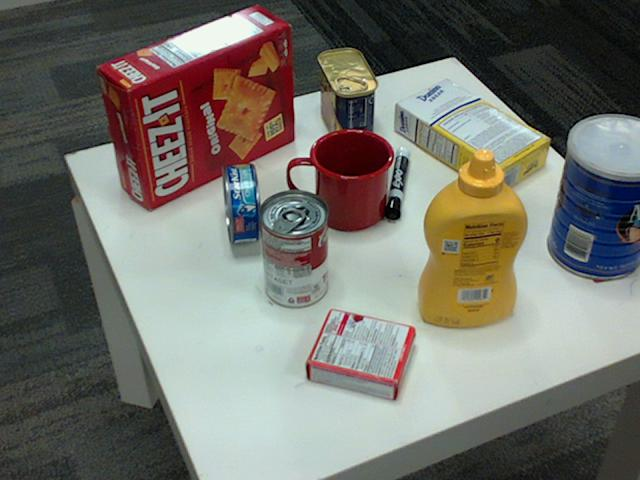cracker_box: (97, 2, 294, 207)
gelatin_box: (304, 308, 413, 402)
large_marker: (384, 150, 410, 219)
master_chef_can: (548, 114, 639, 280)
mug: (288, 126, 394, 229)
mustard_bottle: (417, 149, 528, 326)
potted_meat_can: (315, 49, 376, 148)
sugar_box: (395, 79, 553, 195)
tomato_soup_can: (259, 189, 328, 307)
tuna_fish_can: (222, 163, 261, 244)
